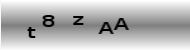8: (41, 14, 55, 27)
A: (97, 21, 114, 34), (113, 17, 129, 30)
t: (26, 26, 36, 38)
z: (70, 14, 85, 26)
